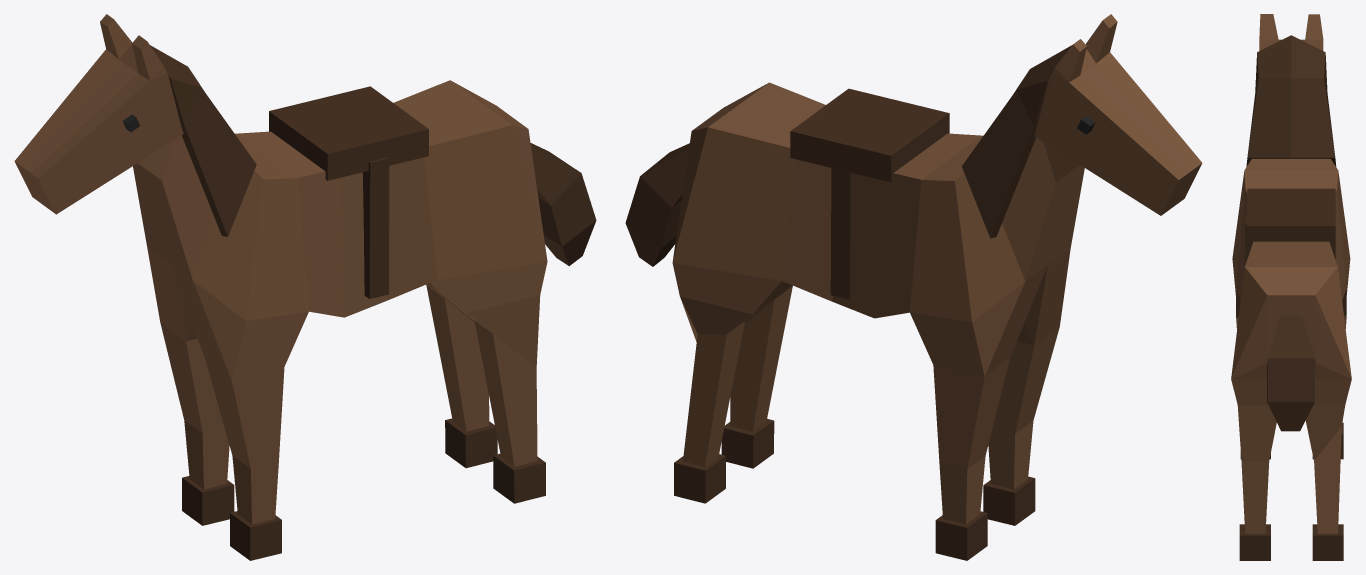
File: horse.fbx
The picture shows the model from 3 angles, left to right: view 1: azimuth 30°, elevation 25°; view 2: azimuth 150°, elevation 25°; view 3: azimuth 270°, elevation 25°; orthographic projection. The views are drawn at different scales.
Visible parts, largest first — view 1: pCube78; view 2: pCube78; view 3: pCube78.
Boxes of the visible parts, x1=… form: pCube78: x1=14, y1=14, x2=596, y2=560; pCube78: x1=625, y1=14, x2=1202, y2=560; pCube78: x1=1231, y1=14, x2=1351, y2=560.
Size of the model in its own units: 2.47 by 2.29 by 0.6171.
